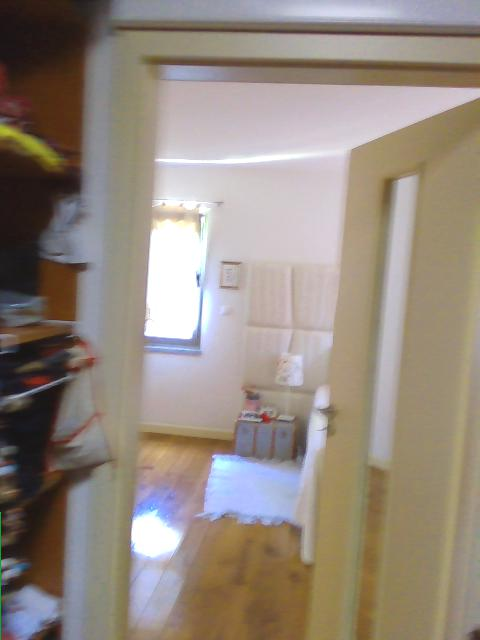semi_door: (84, 16, 479, 639)
